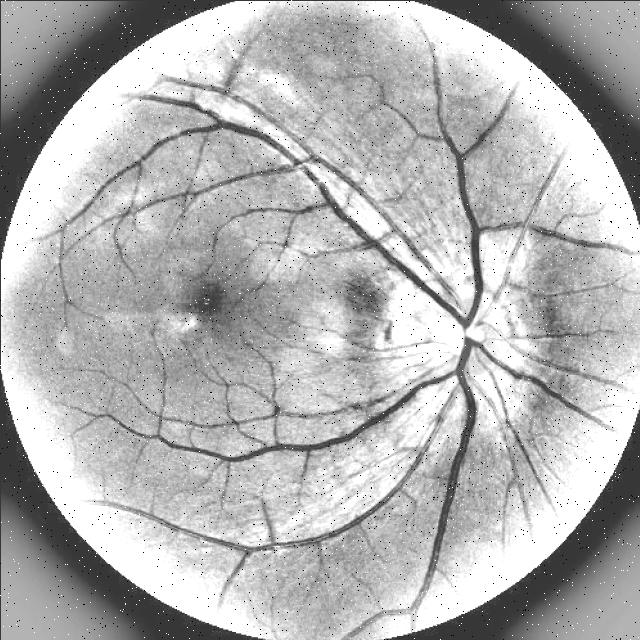Macula: (175, 273, 237, 323)
Nerves: (164, 32, 614, 640), (222, 461, 416, 594), (496, 149, 630, 253), (479, 325, 618, 386), (220, 423, 369, 461), (495, 262, 522, 301)
Optic Disk: (413, 278, 511, 392)
